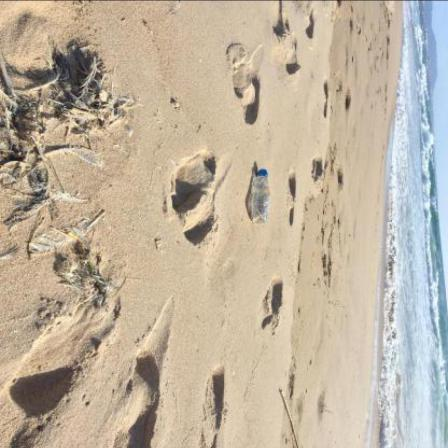Bottle: (252, 170, 271, 225)
Bottle cap: (258, 170, 269, 176)
Unlabeled litter: (70, 233, 86, 245)
